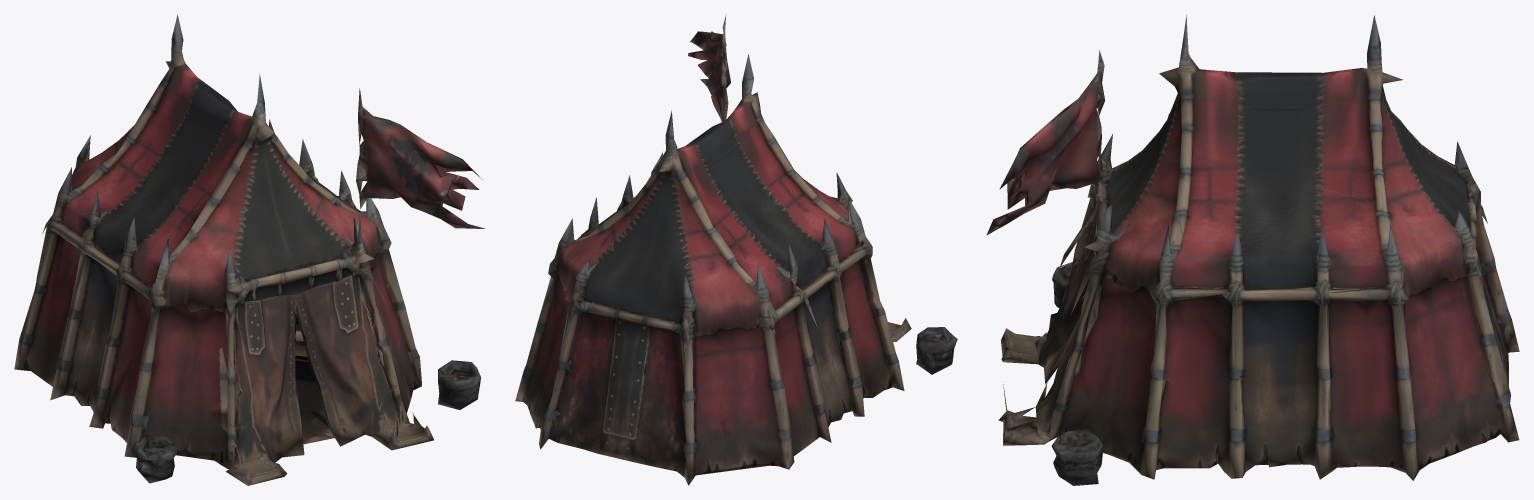
Rendered from Meshy_AI_tent_commander_0219180205_texture.fbx.
3 renders of one model, left to right at view 1: azimuth 30°, elevation 25°; view 2: azimuth 150°, elevation 25°; view 3: azimuth 270°, elevation 25°, orthographic. The views are drawn at different scales.
Parts seen in each view (by area): view 1: Mesh1.0; view 2: Mesh1.0; view 3: Mesh1.0.
Part boxes in pixels (<box>): Mesh1.0: <box>14,15,485,485</box>; Mesh1.0: <box>515,14,957,485</box>; Mesh1.0: <box>986,14,1519,485</box>.
Bounding box in the file's own units: 159 × 149 × 187.
1 material, 1 textured.
